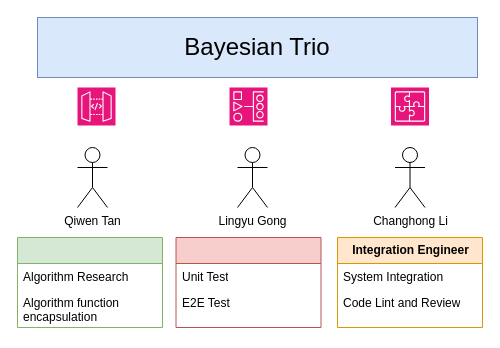
Some shapes in this 500 by 348 pixel diagram are drawn without their labels. The shapes that lost their labels are listed below. From the top down, each one's box as (x1, y1, x2, y2) in pixels, then its label:
(16, 236, 162, 328): Algorithm Engineer
(175, 236, 321, 328): Reliability Enginner
